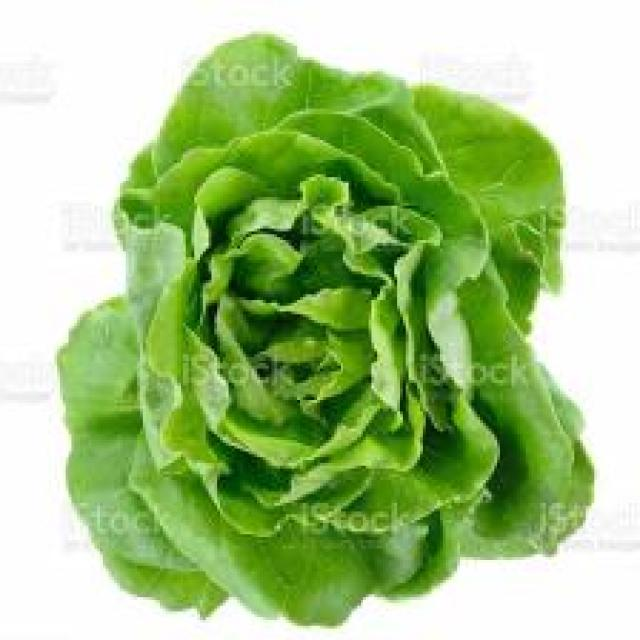Lettuce: (52, 27, 596, 630)
